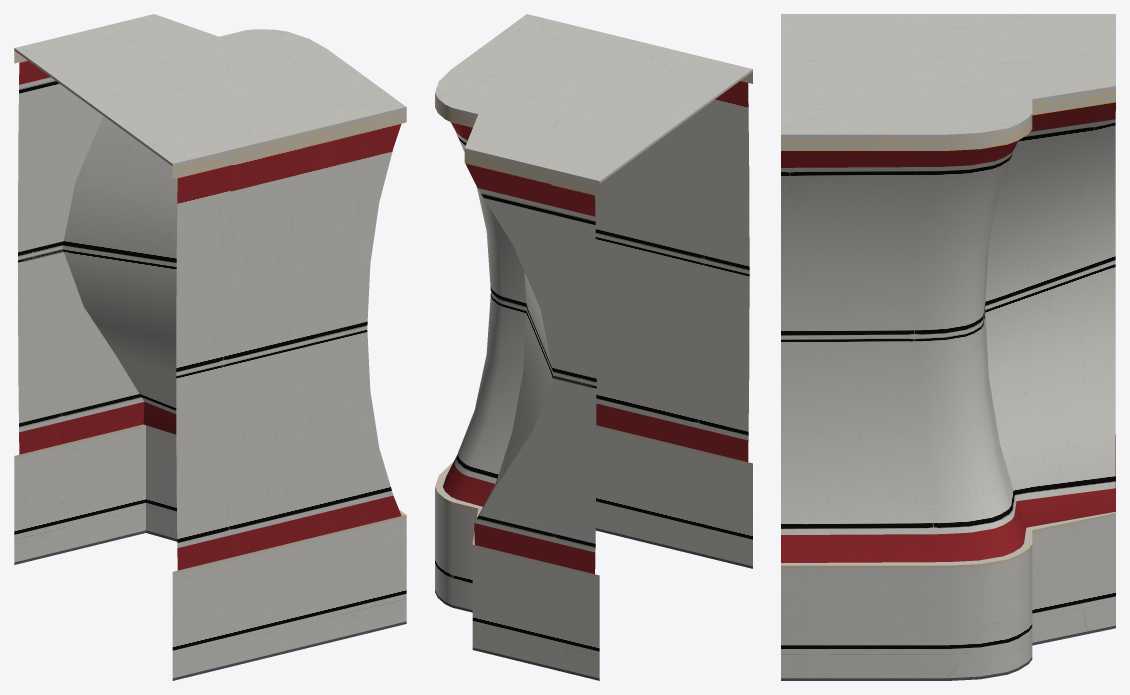
File: G_Env_Arch_Wall_00_RoundedWinow.fbx
3 views of the same model, side by side, from view 1: azimuth 30°, elevation 25°; view 2: azimuth 150°, elevation 25°; view 3: azimuth 270°, elevation 25° (orthographic). The views are drawn at different scales.
Parts seen in each view (by area): view 1: G_Env_Arch_Wall_00_RoundedWinow; view 2: G_Env_Arch_Wall_00_RoundedWinow; view 3: G_Env_Arch_Wall_00_RoundedWinow.
Part boxes in pixels (<box>): G_Env_Arch_Wall_00_RoundedWinow: <box>14,14,406,680</box>; G_Env_Arch_Wall_00_RoundedWinow: <box>435,14,752,680</box>; G_Env_Arch_Wall_00_RoundedWinow: <box>781,14,1115,680</box>.
Bounding box in the file's own units: 426 × 900 × 500.
